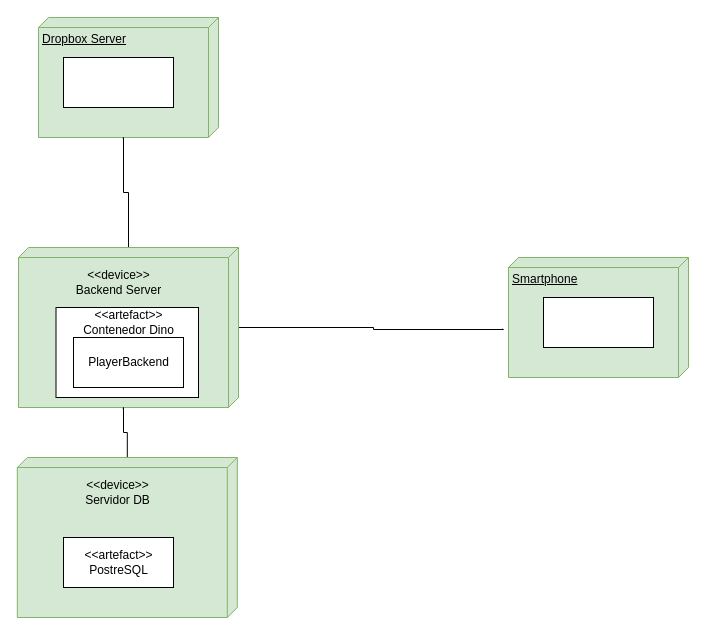
The diagram is 707 pixels wide and 635 high, and some of its shapes have lost their labels. Here are the shapes that lost their labels. From the top down, the centre of each, then its label:
At pixel 118 82: "<<artefact>> DropboxAPI".
At pixel 598 322: "<<artefact>> PlayerMovil.apk".
